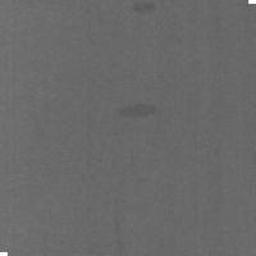Oil spot: (109, 101, 157, 123), (132, 0, 157, 17)
